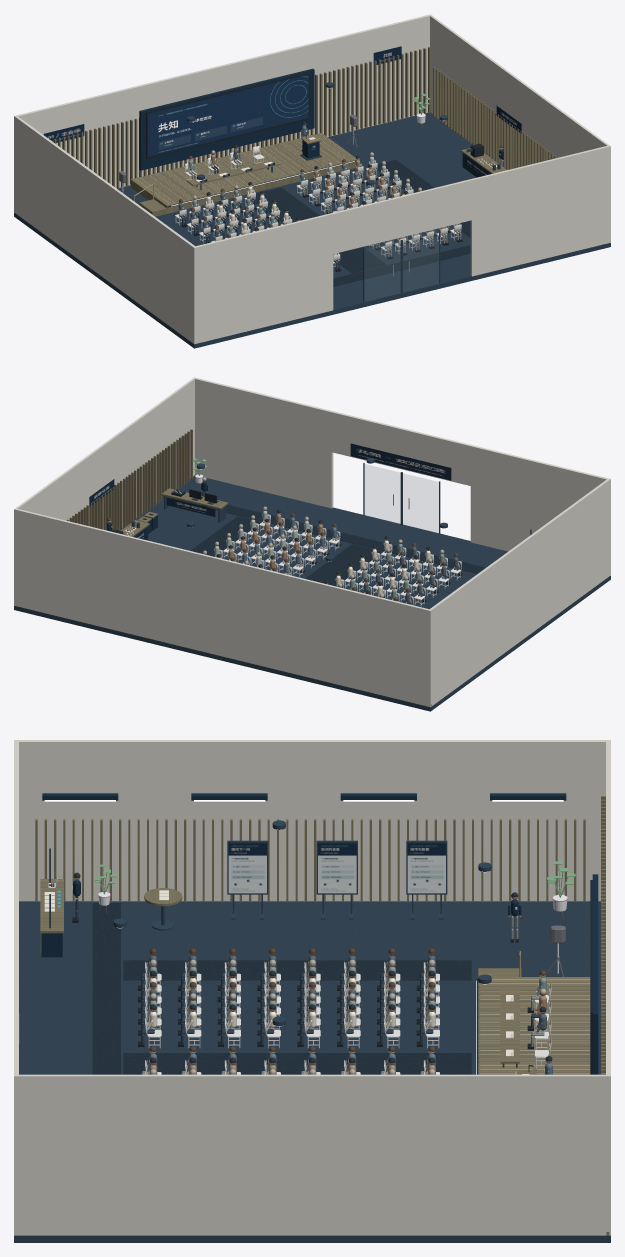
File: conference.glb
3 views of the same model, one above another, from view 1: azimuth 30°, elevation 25°; view 2: azimuth 150°, elevation 25°; view 3: azimuth 270°, elevation 25° (orthographic). The views are drawn at different scales.
Parts seen in each view (by area): view 1: Left_wall_0008, Back_wall_0009, Carpet_0002, Entrance_wall_0012, Entrance_wall_0013, Right_wall_0010, Graphic_screen_0300, Stage_11x3_6_0251, Entrance_header_0014, Screen_wall_0298, Floor_slab_24x18_0001, Entrance_glass_door_0019 (+6 smaller); view 2: Back_wall_0009, Left_wall_0008, Carpet_0002, Entrance_wall_0013, Entrance_wall_0012, Right_wall_0010, Entrance_header_0014, Floor_slab_24x18_0001, Entrance_glass_door_0015, Entrance_glass_door_0019, Rear_cross_aisle_0006, Graphic_sign_0023 (+2 smaller); view 3: Right_wall_0010, Left_wall_0008, Carpet_0002, Stage_11x3_6_0251, Central_aisle_2m_0003, Side_aisle_1_4m_0004, Rear_cross_aisle_0006, Floor_slab_24x18_0001, Back_wall_0009, Graphic_poster_0378, Graphic_poster_0372, Graphic_poster_0384 (+4 smaller).
Boxes of the visible parts, x1=… form: Left_wall_0008: x1=14, y1=116, x2=196, y2=344; Back_wall_0009: x1=14, y1=14, x2=430, y2=212; Carpet_0002: x1=15, y1=112, x2=609, y2=344; Entrance_wall_0012: x1=193, y1=213, x2=333, y2=343; Entrance_wall_0013: x1=470, y1=146, x2=608, y2=276; Right_wall_0010: x1=429, y1=15, x2=610, y2=242; Graphic_screen_0300: x1=148, y1=74, x2=308, y2=156; Stage_11x3_6_0251: x1=131, y1=133, x2=356, y2=213; Entrance_header_0014: x1=332, y1=179, x2=471, y2=253; Screen_wall_0298: x1=139, y1=68, x2=314, y2=170; Floor_slab_24x18_0001: x1=14, y1=212, x2=610, y2=348; Entrance_glass_door_0019: x1=403, y1=232, x2=438, y2=291; Back_wall_0009: x1=14, y1=508, x2=431, y2=706; Left_wall_0008: x1=428, y1=479, x2=610, y2=707; Carpet_0002: x1=15, y1=475, x2=609, y2=707; Entrance_wall_0013: x1=193, y1=378, x2=333, y2=508; Entrance_wall_0012: x1=470, y1=445, x2=610, y2=551; Right_wall_0010: x1=14, y1=377, x2=195, y2=601; Entrance_header_0014: x1=331, y1=411, x2=471, y2=485; Floor_slab_24x18_0001: x1=14, y1=575, x2=610, y2=711; Entrance_glass_door_0015: x1=403, y1=473, x2=438, y2=533; Entrance_glass_door_0019: x1=365, y1=464, x2=399, y2=523; Rear_cross_aisle_0006: x1=171, y1=498, x2=485, y2=573; Graphic_sign_0023: x1=350, y1=443, x2=451, y2=480; Right_wall_0010: x1=14, y1=1074, x2=610, y2=1235; Left_wall_0008: x1=14, y1=740, x2=610, y2=901; Carpet_0002: x1=14, y1=901, x2=610, y2=1236; Stage_11x3_6_0251: x1=478, y1=977, x2=590, y2=1074; Central_aisle_2m_0003: x1=123, y1=1053, x2=471, y2=1074; Side_aisle_1_4m_0004: x1=123, y1=960, x2=471, y2=980; Rear_cross_aisle_0006: x1=92, y1=903, x2=120, y2=1074; Floor_slab_24x18_0001: x1=14, y1=1236, x2=610, y2=1242; Back_wall_0009: x1=606, y1=740, x2=610, y2=1235; Graphic_poster_0378: x1=318, y1=843, x2=356, y2=893; Graphic_poster_0372: x1=407, y1=843, x2=445, y2=893; Graphic_poster_0384: x1=228, y1=843, x2=266, y2=893.
Size of the model in its own units: 24 by 5.54 by 18.
Materials: 61 (22 with a texture image).
